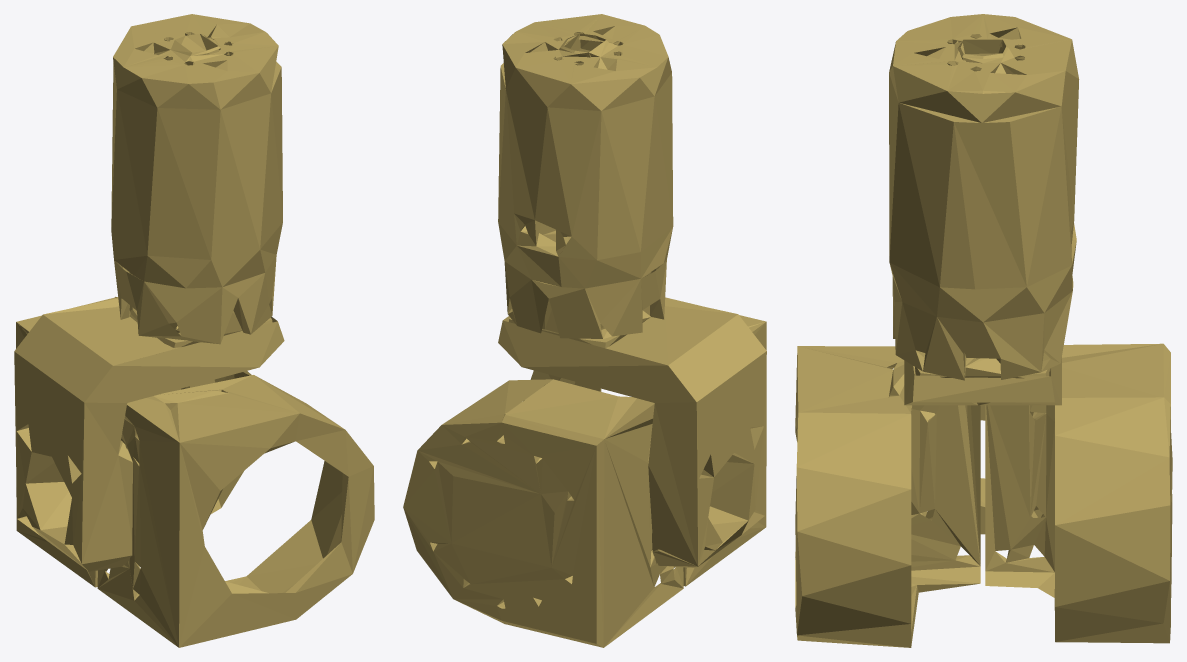
Rendered from l_shoulder_rotation.dae.
3 renders of one model, left to right at view 1: azimuth 30°, elevation 25°; view 2: azimuth 150°, elevation 25°; view 3: azimuth 270°, elevation 25°, orthographic. The views are drawn at different scales.
Visible parts, largest first — view 1: M3L; view 2: M3L; view 3: M3L.
Part boxes in pixels (bbox=[...]): M3L: bbox=[14, 14, 374, 647]; M3L: bbox=[403, 14, 766, 647]; M3L: bbox=[795, 14, 1172, 647].
Size of the model in its own units: 0.069 by 0.0814 by 0.1397.
